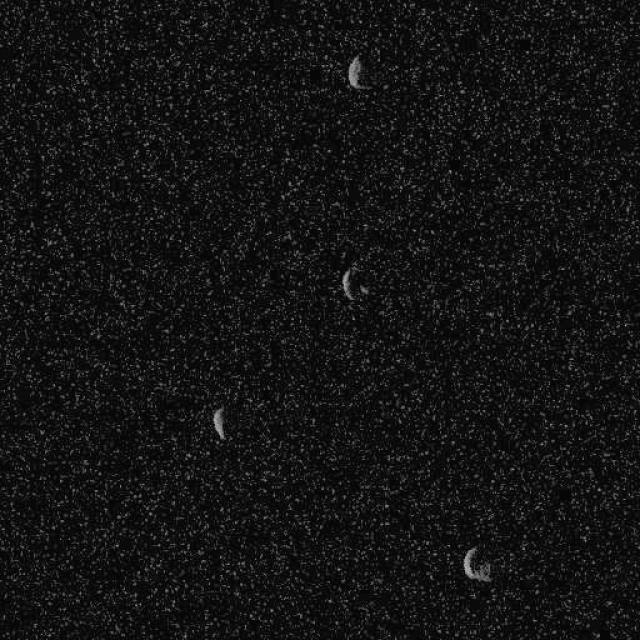D2: (461, 545, 491, 583), (340, 265, 369, 303), (346, 52, 372, 90), (210, 405, 225, 440)
